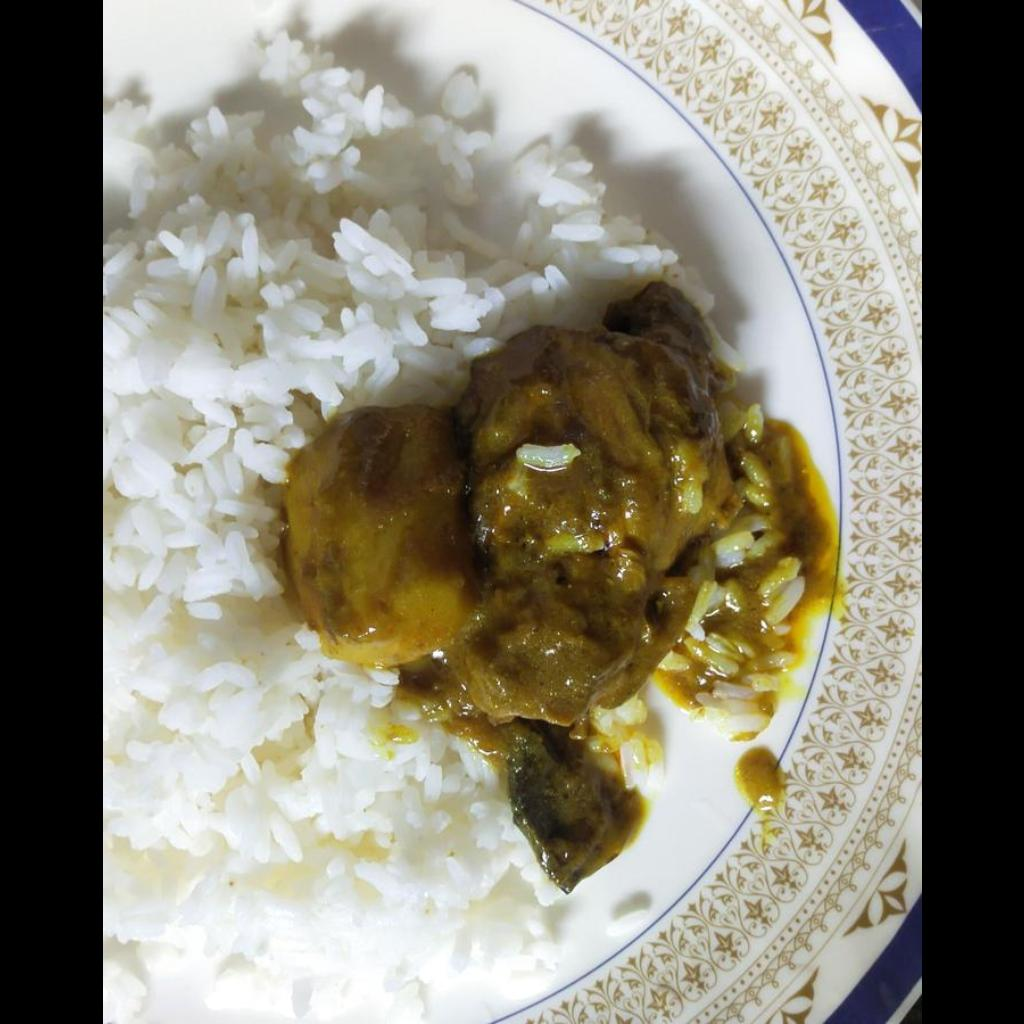chicken: (276, 275, 727, 730)
rice: (102, 34, 656, 916)
